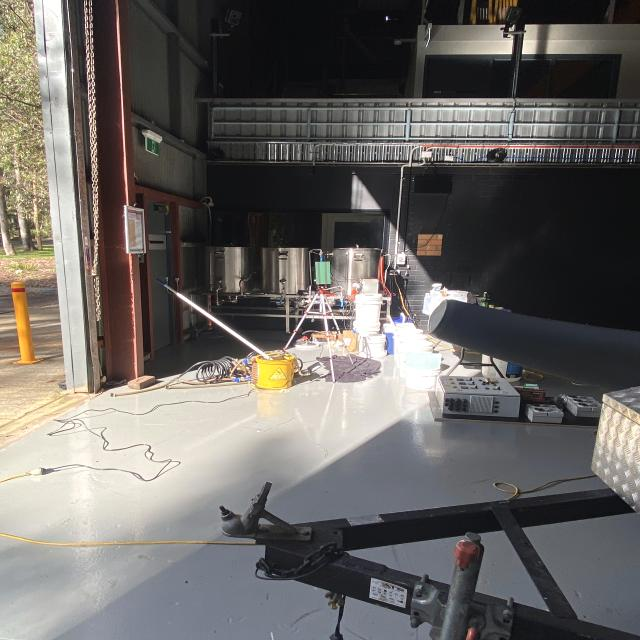matrix: (314, 260, 333, 286)
